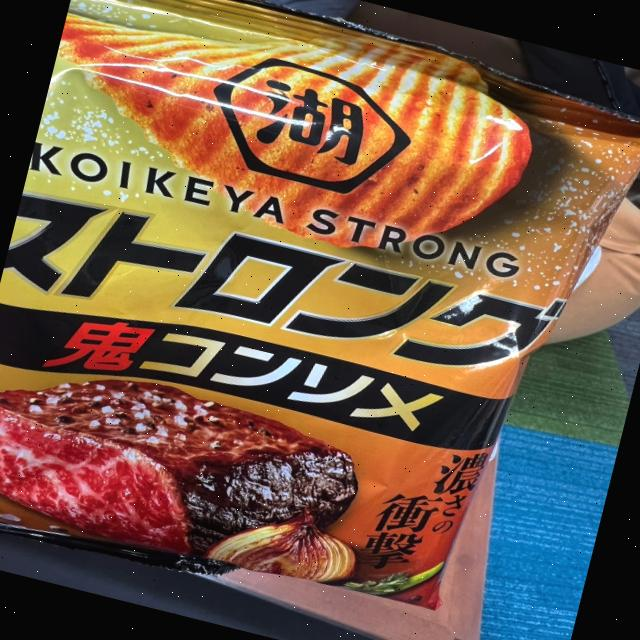chips-consome: (0, 0, 634, 626)
